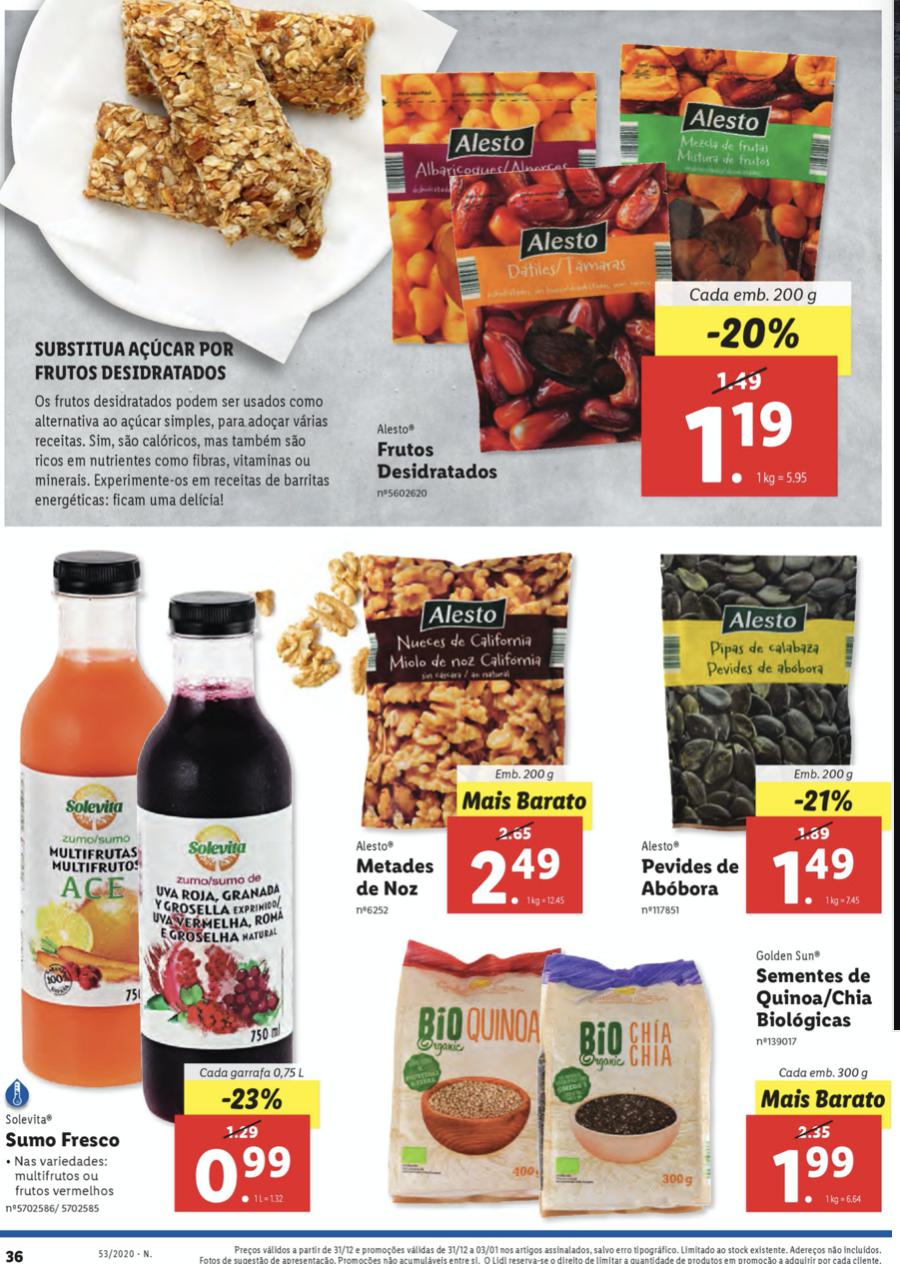name: (751, 965, 875, 1036), (371, 436, 506, 486), (637, 856, 740, 900), (350, 856, 439, 898), (6, 1131, 128, 1153)
price: (681, 395, 815, 492), (465, 845, 571, 911), (192, 1143, 295, 1209), (771, 845, 864, 911), (771, 1143, 862, 1209)
product: (17, 29, 859, 514), (3, 529, 323, 1215), (373, 934, 885, 1220), (328, 537, 604, 939), (632, 543, 887, 923)
promotion: (701, 312, 806, 353), (217, 1086, 289, 1114), (792, 786, 857, 817)
